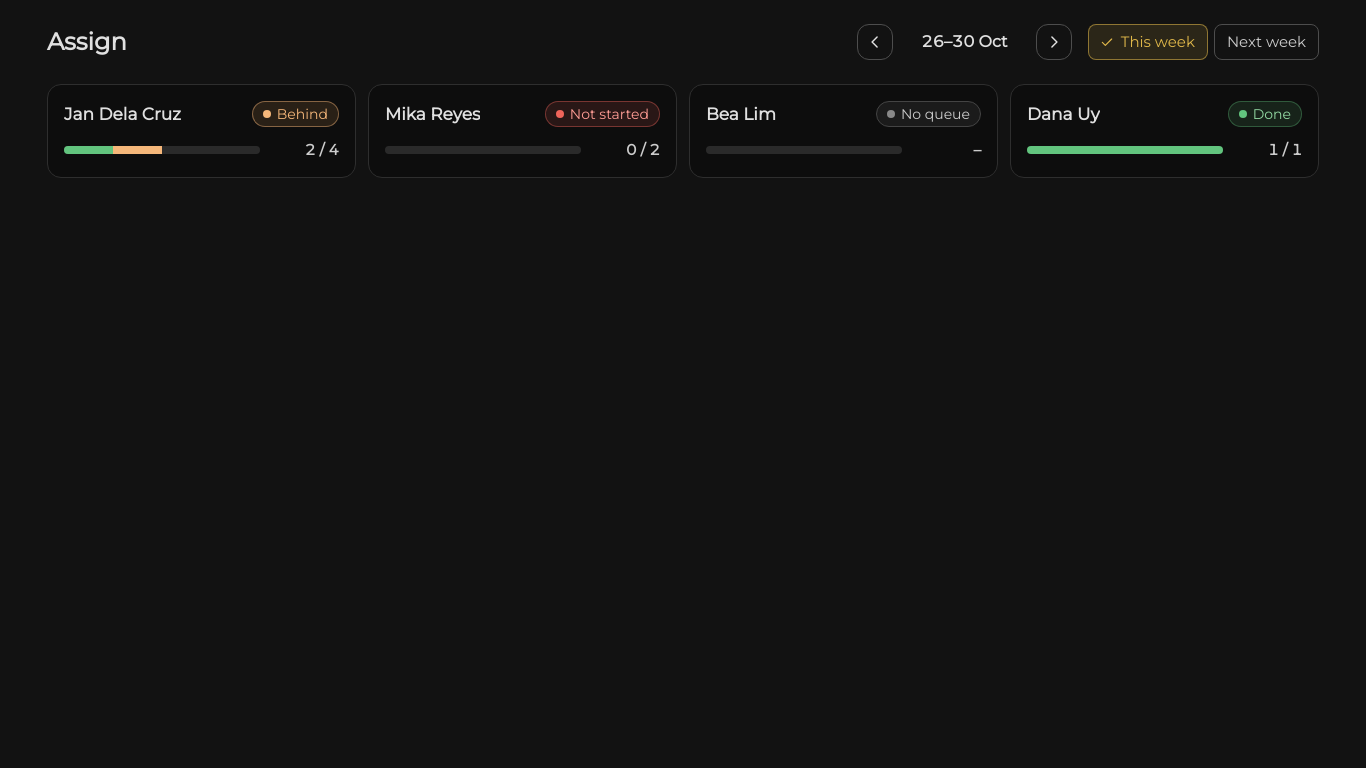
Assign, step one: the interns this week › shows each intern with the week’s progress and one word, those behind first
Check: the heading reads "Assign", box [47,27,127,56]
Check: the element with class "assign-pick__count" reads "2 / 4", box [272,139,339,161]
Click the button "Jan Dela Cruz Behind 2 / 4". click: (122, 114)
box: [47,84,356,178]
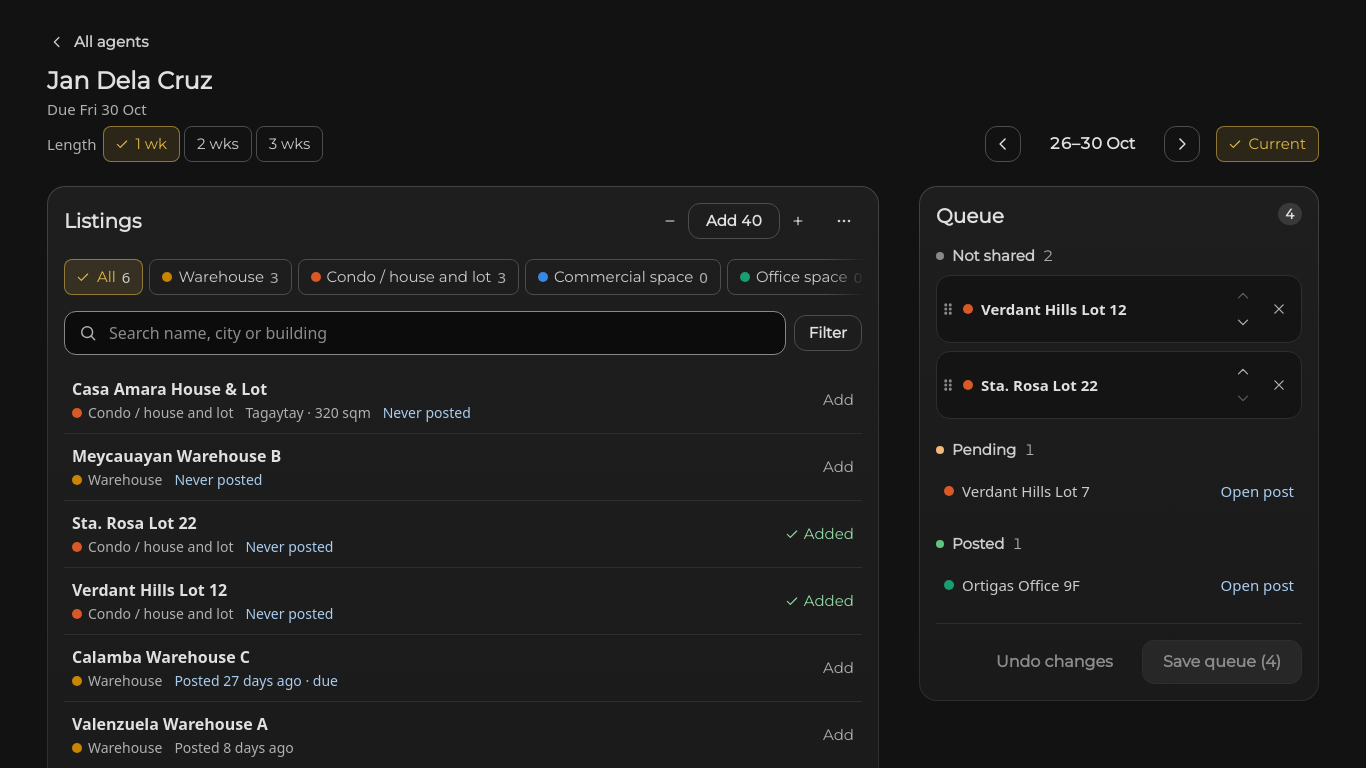
Check: the heading "Jan Dela Cruz" is shown, box [47,66,212,96]
